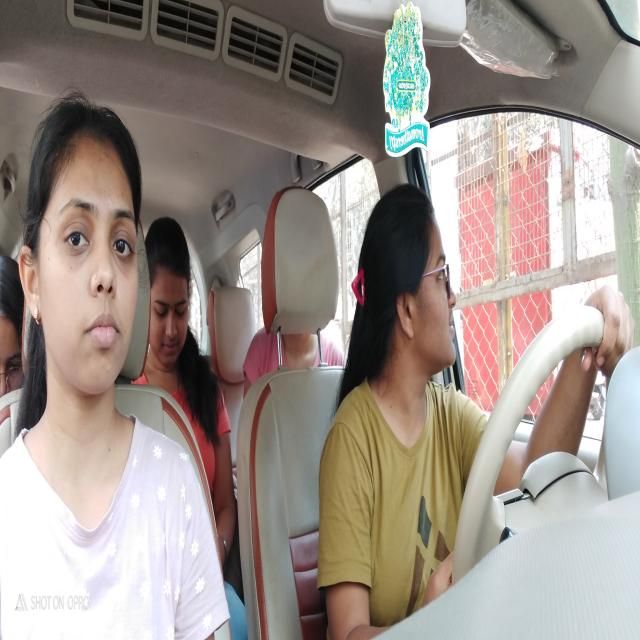LeftRight: (353, 178, 460, 393)
person: (15, 100, 147, 413), (144, 210, 198, 378), (0, 244, 28, 399)
